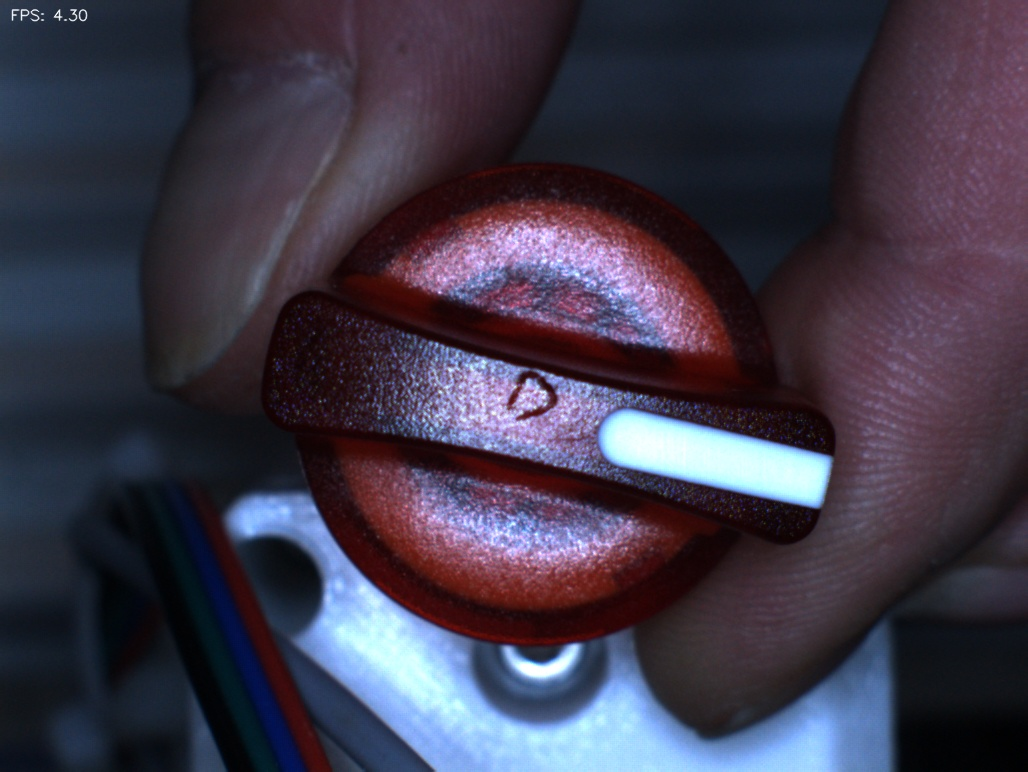Choc: (484, 347, 570, 433)
